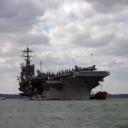Portanaves: (18, 45, 111, 102)
